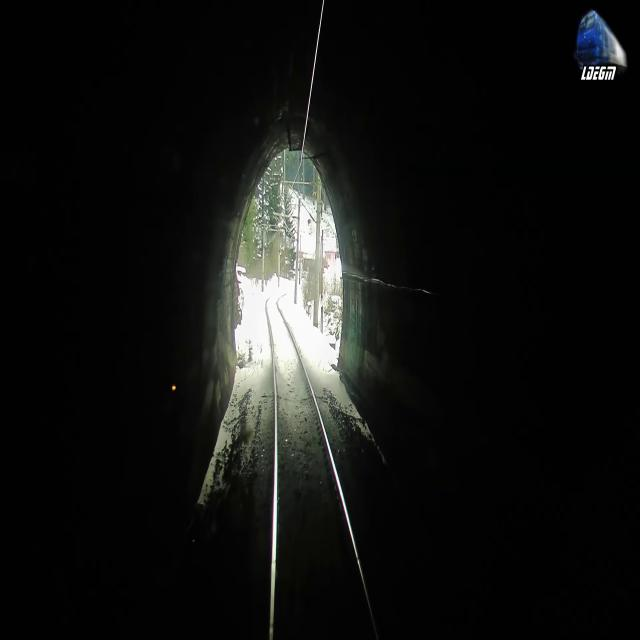rail-track: (267, 295, 374, 639)
